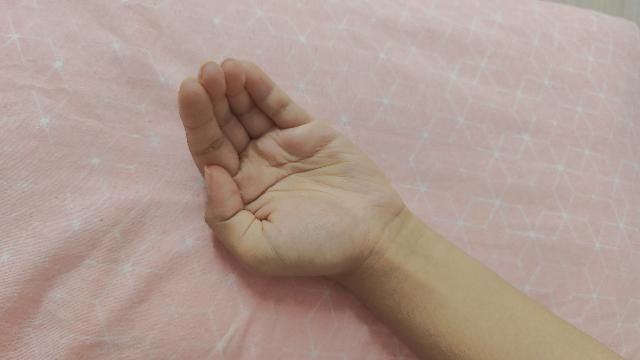sarpsheesh: (176, 59, 626, 360)
